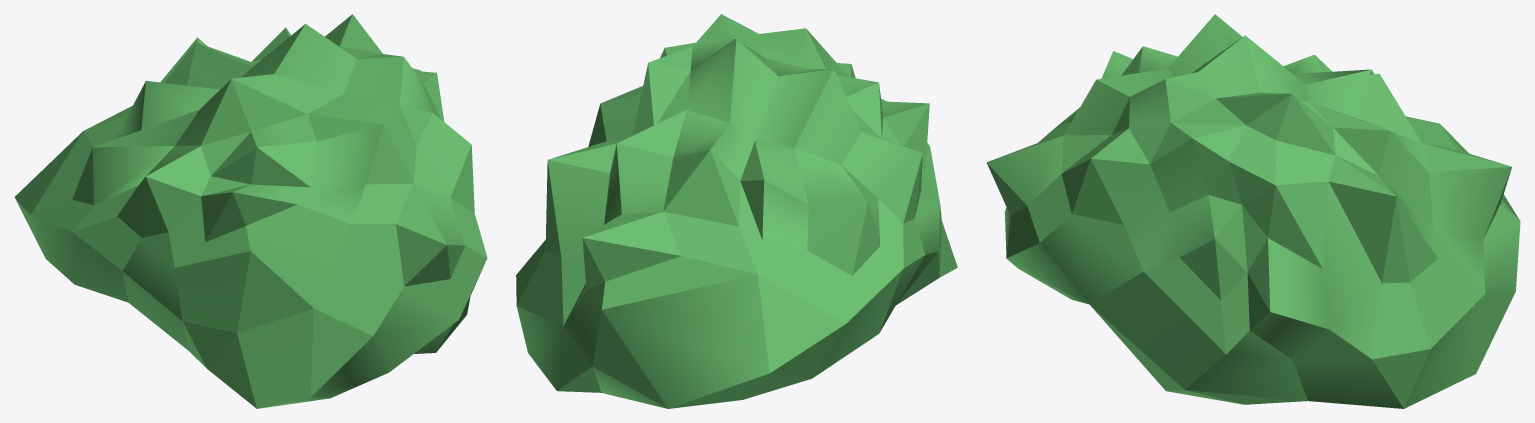
Rendered from bush_001.glb.
3 renders of one model, left to right at view 1: azimuth 30°, elevation 25°; view 2: azimuth 150°, elevation 25°; view 3: azimuth 270°, elevation 25°, orthographic. The views are drawn at different scales.
Visible parts, largest first — view 1: bush_001; view 2: bush_001; view 3: bush_001.
Boxes of the visible parts, left/top/right/bottom form: bush_001: left=14, top=14, right=487, bottom=408; bush_001: left=516, top=14, right=957, bottom=408; bush_001: left=986, top=14, right=1520, bottom=408.
Bounding box in the file's own units: 1.97 × 1.58 × 2.43.
Materials: 1 (1 with a texture image).
